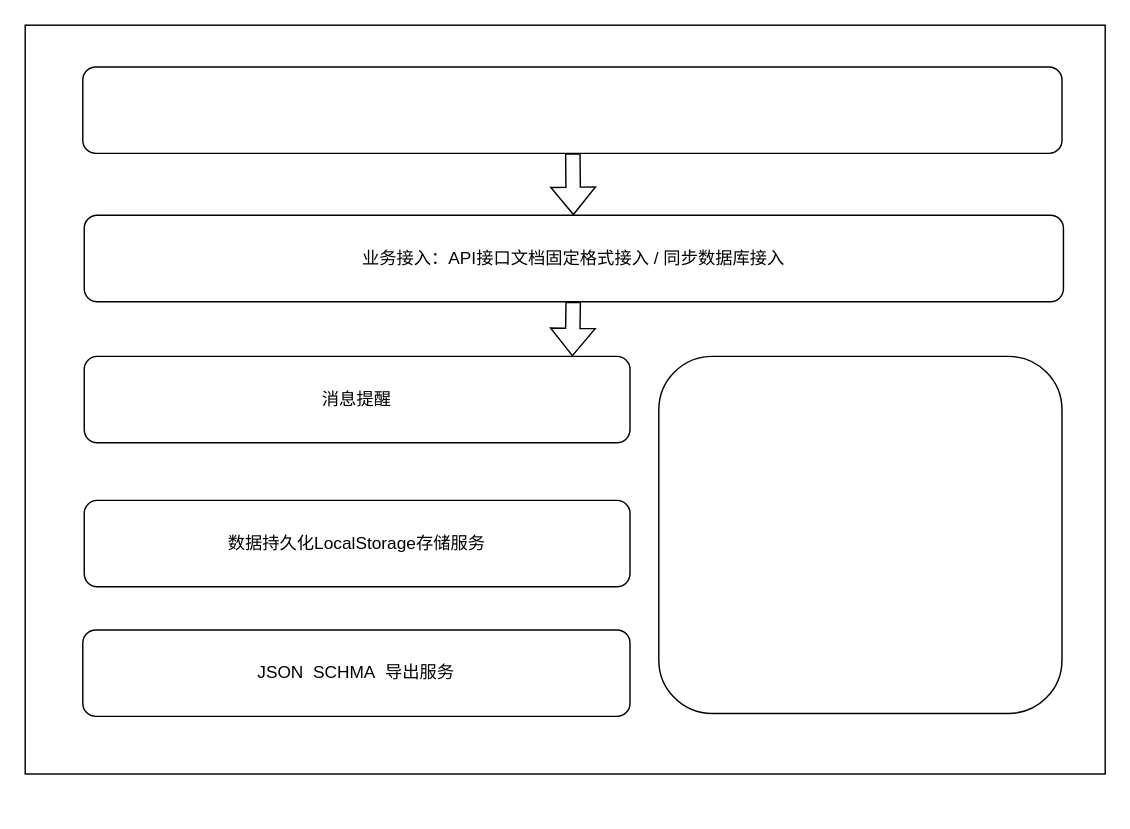
Image size: 1130x829. Some labels were removed from this diagram. The box of each missing label's shape, as (x1, y1, x2, y2) in pixels:
业务后台： 数据结构转换服务 系统日志服务 系统用户管理: (657, 355, 1062, 714)
应用层：SPA单页面应用，多TAB切换，多级弹窗配置: (81, 66, 1062, 153)
